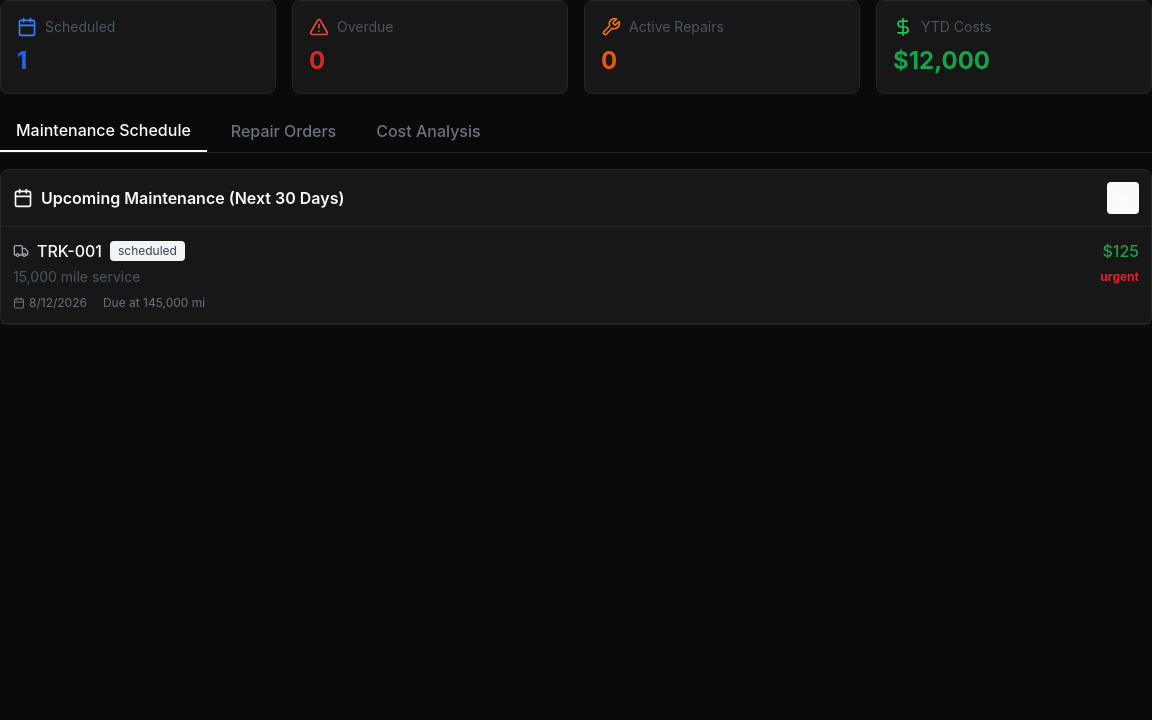
it: MaintenancePanel — the costs tab › shows all four figures the server now computes
Expected: the text "15,000 mile service" is shown, [13, 268, 140, 285]
Click the button "Cost Analysis". click: (428, 131)
box: [360, 110, 497, 152]
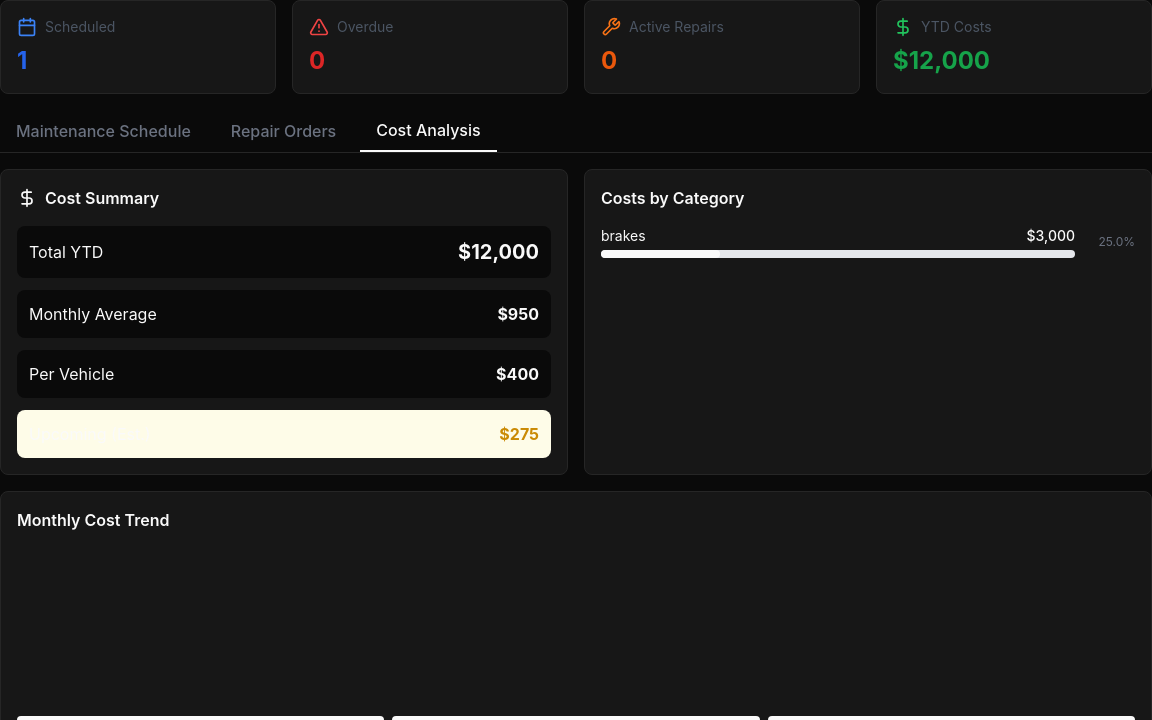
Expected: the text "Monthly Average" is shown, [29, 302, 157, 326]
Expected: the text "$950" is shown, [497, 302, 539, 326]
Expected: the text "Per Vehicle" is shown, [29, 362, 114, 386]
